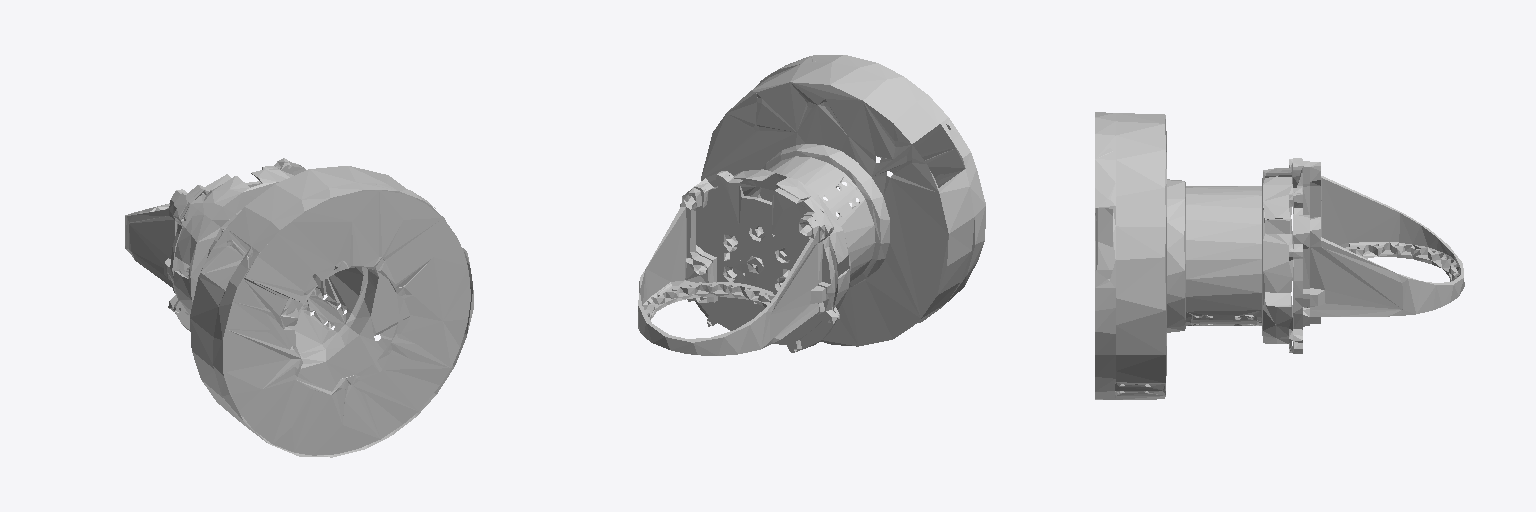
File: RSM.obj
3 renders of one model, left to right at view 1: azimuth 30°, elevation 25°; view 2: azimuth 150°, elevation 25°; view 3: azimuth 270°, elevation 25°, orthographic.
Visible parts, largest first — view 1: RSM.obj; view 2: RSM.obj; view 3: RSM.obj.
Boxes of the visible parts, <box> form: RSM.obj: <box>125,158,473,457</box>; RSM.obj: <box>638,55,985,355</box>; RSM.obj: <box>1095,112,1464,399</box>.
Size of the model in its own units: 0.2286 by 0.2262 by 0.2908.